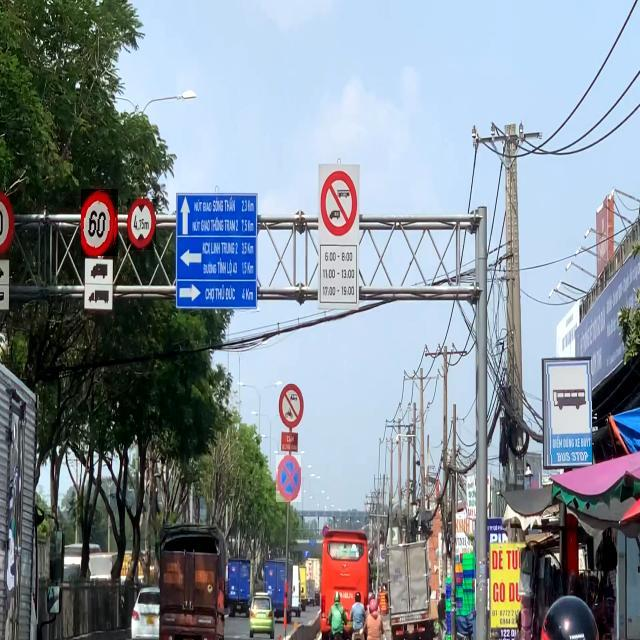P-117: (127, 199, 156, 250)
P-127: (81, 189, 118, 256)
P-130: (276, 455, 301, 502)
R-434: (544, 360, 592, 466)
